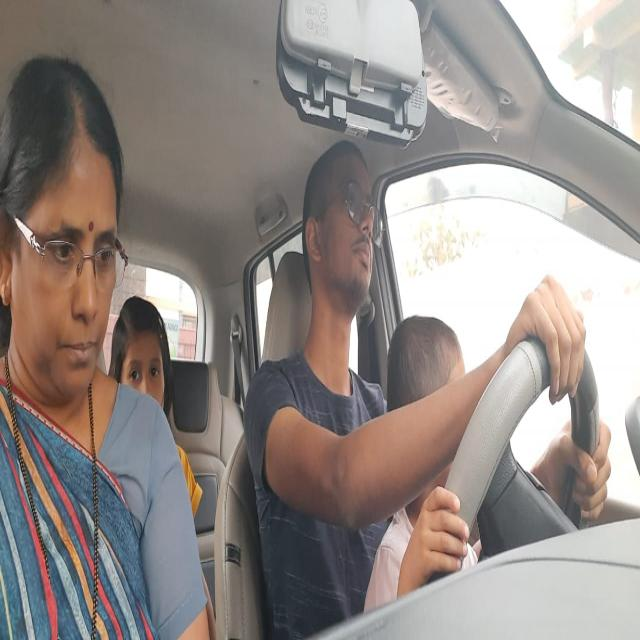child: (384, 319, 470, 423)
person: (0, 49, 128, 400), (297, 138, 382, 326), (108, 293, 174, 408)
